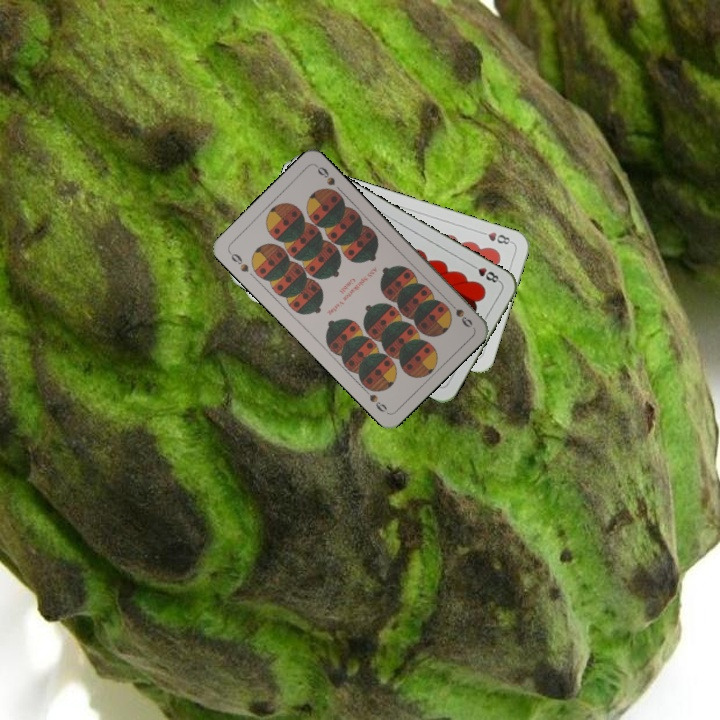H8: (466, 260, 503, 285), (475, 227, 515, 247)
S9: (444, 297, 475, 330), (225, 247, 251, 275)
